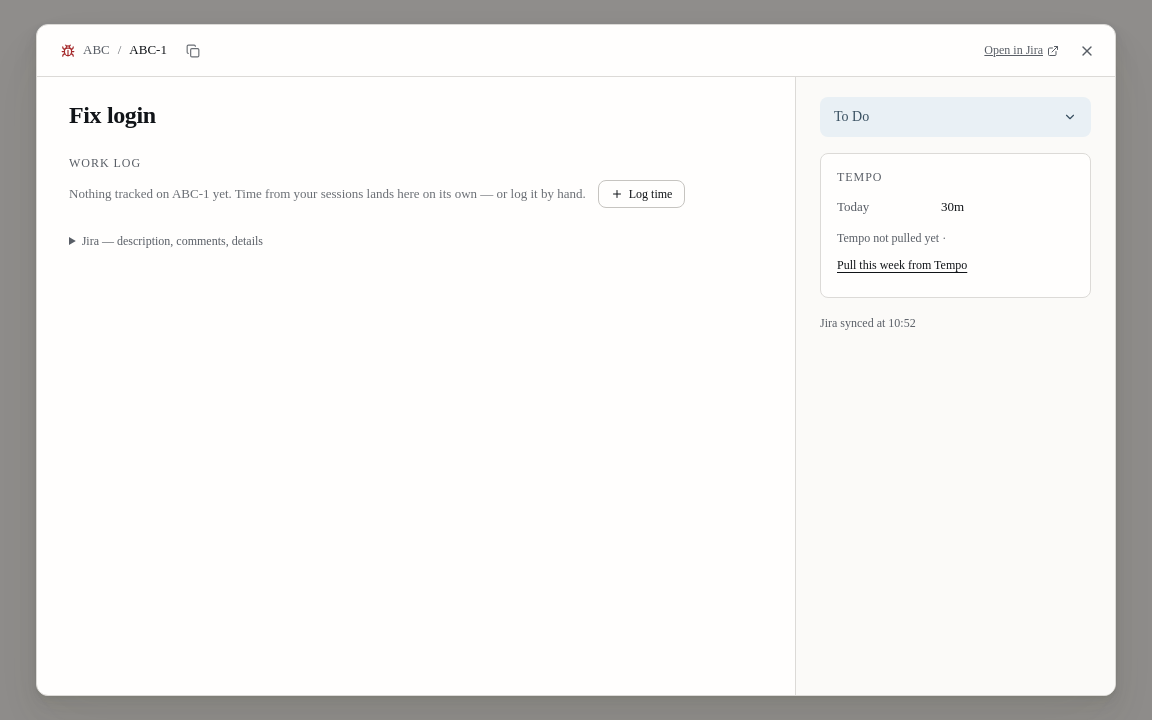
Test: TaskModal closing › Esc inside the log form closes the form, not the dialog
This screenshot has width=1152, height=720.
Expected: the text "Nothing tracked on ABC-1 yet. Time from your sessions lands here on its own — or log it by hand." is shown, [69, 186, 586, 201]
Click the button "Log time".
click(642, 194)  # box [598, 180, 685, 208]
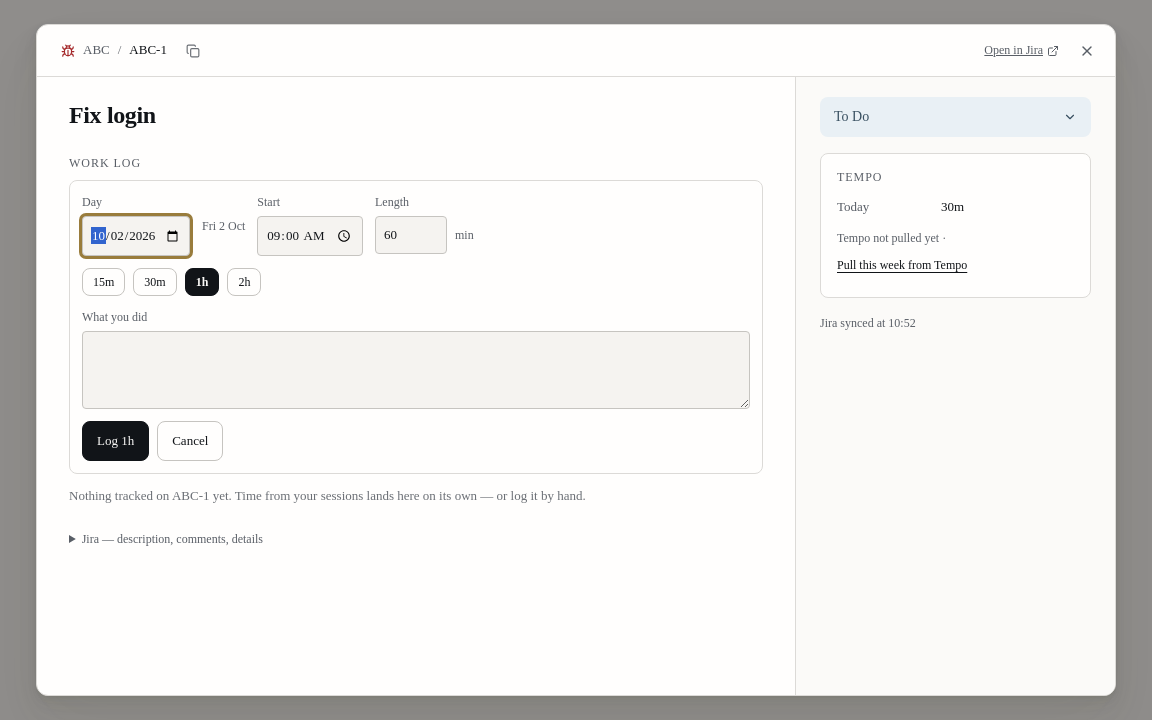
Press Escape in the text box labelled "What you did", box [82, 331, 750, 409]
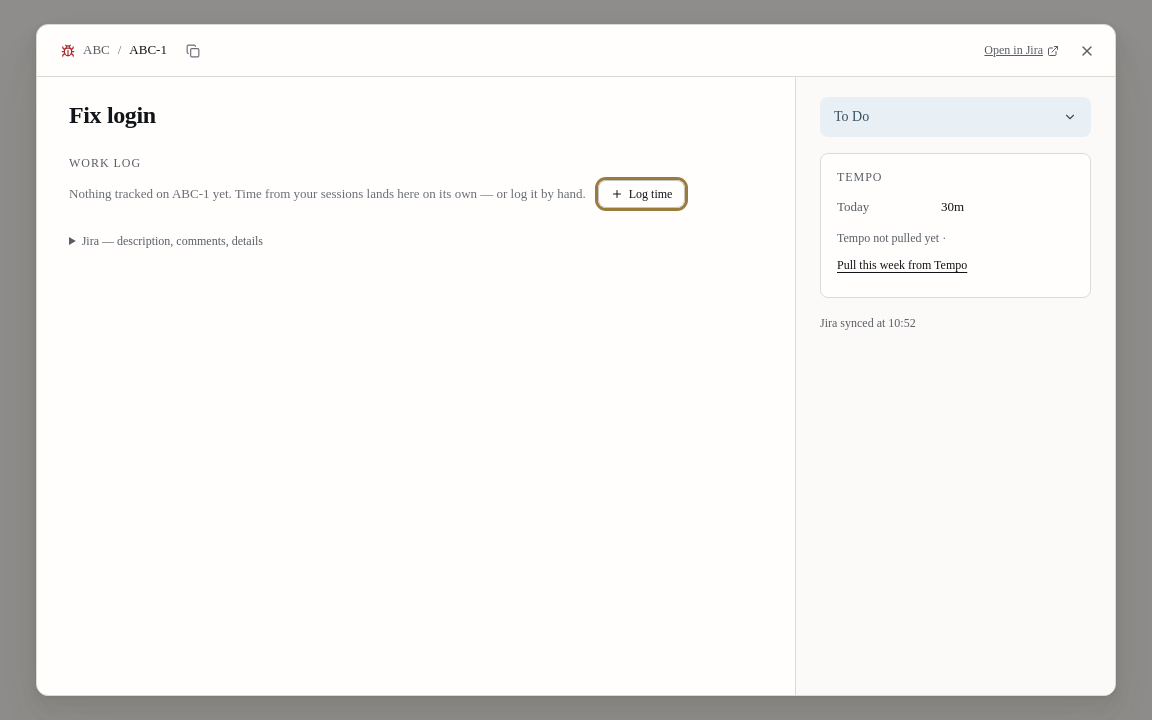
Expected: the label labelled "What you did" is gone
